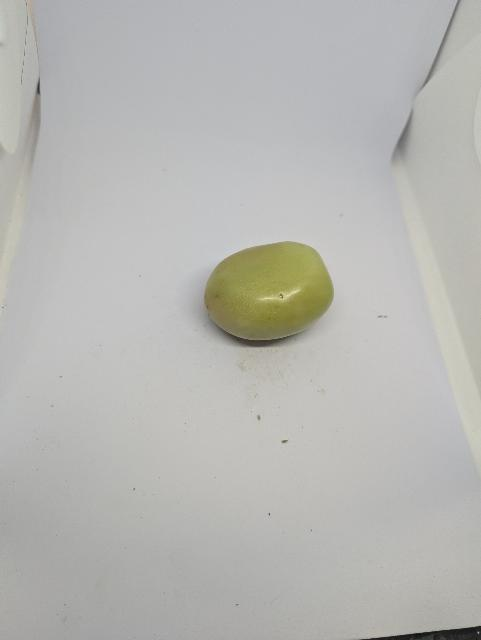green: (202, 240, 337, 344)
